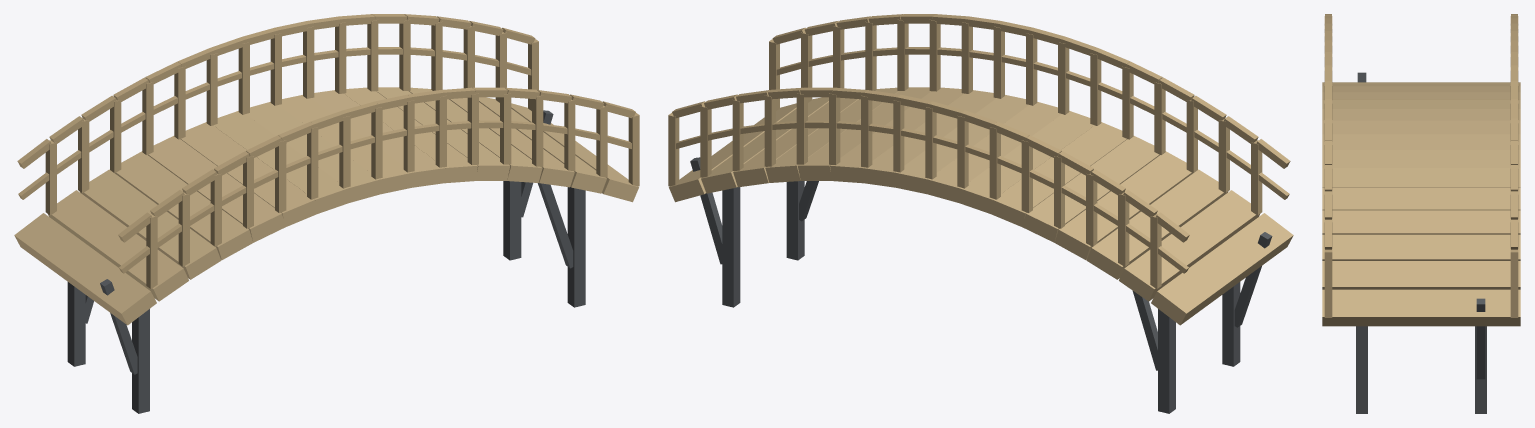
The model's file is narrows-bridge.glb.
The picture shows the model from 3 angles, left to right: view 1: azimuth 30°, elevation 25°; view 2: azimuth 150°, elevation 25°; view 3: azimuth 270°, elevation 25°; orthographic projection. The views are drawn at different scales.
Parts seen in each view (by area): view 1: Deck plank 0, Deck plank 1, Deck plank 2, Deck plank 3, Deck plank 4, Deck plank 5, Deck plank 6, Deck plank 7, Deck plank 8, Deck plank 9, Deck plank 10, Pier 1 -1 (+42 smaller); view 2: Deck plank 0, Deck plank 1, Deck plank 2, Deck plank 3, Deck plank 4, Deck plank 5, Deck plank 6, Deck plank 7, Deck plank 8, Deck plank 9, Deck plank 10, Pier 1 1 (+43 smaller); view 3: Deck plank 15, Deck plank 14, Deck plank 13, Deck plank 12, Deck plank 11, Deck plank 10, Deck plank 9, Deck plank 8, Deck plank 7, Deck plank 6, Deck plank 5, Deck plank 4 (+12 smaller).
Part boxes in pixels (left/top/right/bottom): Deck plank 0: left=14, top=213, right=156, bottom=325; Deck plank 1: left=48, top=190, right=188, bottom=301; Deck plank 2: left=79, top=169, right=221, bottom=279; Deck plank 3: left=114, top=151, right=253, bottom=259; Deck plank 4: left=148, top=136, right=285, bottom=242; Deck plank 5: left=180, top=122, right=317, bottom=227; Deck plank 6: left=213, top=111, right=348, bottom=213; Deck plank 7: left=246, top=102, right=380, bottom=202; Deck plank 8: left=279, top=95, right=412, bottom=194; Deck plank 9: left=311, top=90, right=445, bottom=187; Deck plank 10: left=344, top=87, right=477, bottom=183; Pier 1 -1: left=567, top=187, right=585, bottom=307; Deck plank 0: left=1151, top=213, right=1293, bottom=325; Deck plank 1: left=1119, top=190, right=1259, bottom=301; Deck plank 2: left=1086, top=169, right=1228, bottom=279; Deck plank 3: left=1054, top=151, right=1193, bottom=259; Deck plank 4: left=1023, top=136, right=1159, bottom=242; Deck plank 5: left=990, top=122, right=1127, bottom=227; Deck plank 6: left=959, top=111, right=1094, bottom=213; Deck plank 7: left=927, top=102, right=1061, bottom=202; Deck plank 8: left=895, top=95, right=1028, bottom=194; Deck plank 9: left=862, top=90, right=996, bottom=187; Deck plank 10: left=830, top=87, right=963, bottom=183; Pier 1 1: left=722, top=187, right=740, bottom=307; Deck plank 15: left=1322, top=289, right=1520, bottom=326; Deck plank 14: left=1322, top=261, right=1520, bottom=289; Deck plank 13: left=1322, top=234, right=1520, bottom=260; Deck plank 12: left=1322, top=210, right=1520, bottom=234; Deck plank 11: left=1322, top=188, right=1520, bottom=210; Deck plank 10: left=1322, top=168, right=1520, bottom=187; Deck plank 9: left=1322, top=150, right=1520, bottom=167; Deck plank 8: left=1322, top=134, right=1520, bottom=149; Deck plank 7: left=1322, top=120, right=1520, bottom=134; Deck plank 6: left=1322, top=109, right=1520, bottom=120; Deck plank 5: left=1322, top=99, right=1520, bottom=108; Deck plank 4: left=1322, top=92, right=1520, bottom=99.
Size of the model in its own units: 7.28 by 3.58 by 2.6.
